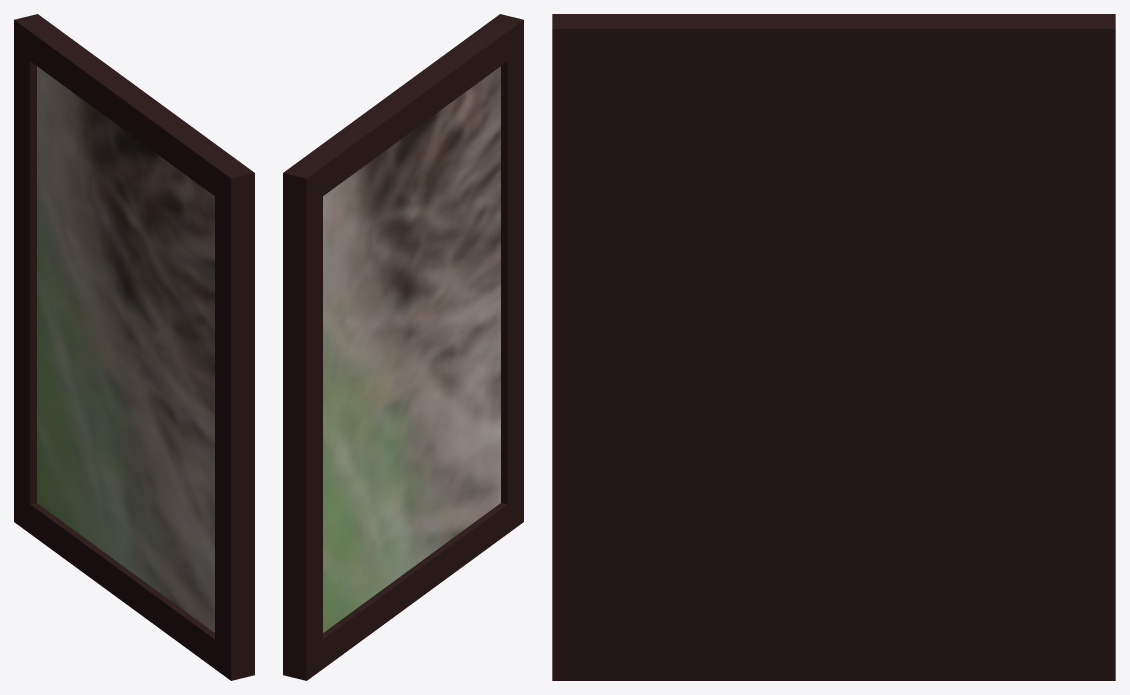
The model's file is PaintingLarge.fbx.
The picture shows the model from 3 angles, left to right: view 1: azimuth 30°, elevation 25°; view 2: azimuth 150°, elevation 25°; view 3: azimuth 270°, elevation 25°; orthographic projection. The views are drawn at different scales.
Parts seen in each view (by area): view 1: Painting_Large; view 2: Painting_Large; view 3: Painting_Large.
Part boxes in pixels (x1,y1,x2,y2): Painting_Large: [14, 14, 254, 680]; Painting_Large: [283, 14, 523, 680]; Painting_Large: [552, 14, 1115, 680].
Bounding box in the file's own units: 6.31 × 128 × 100.
2 materials, 1 textured.
